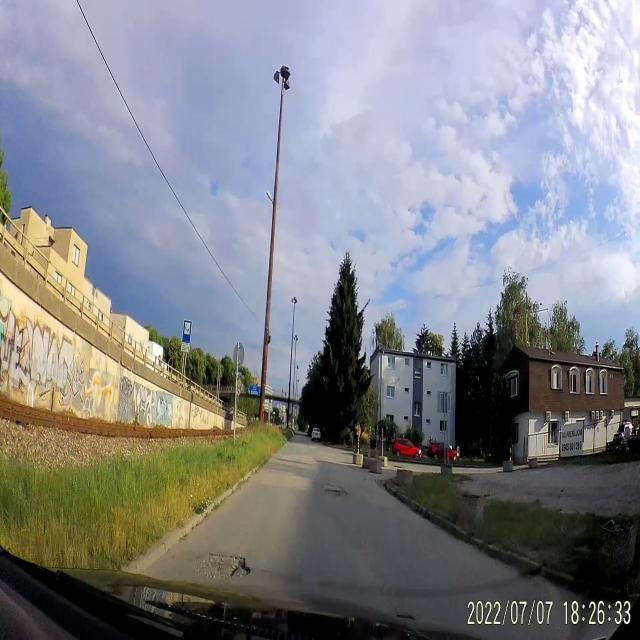Pothole: (188, 545, 256, 579), (318, 483, 347, 503), (370, 469, 385, 489), (391, 462, 404, 468)
